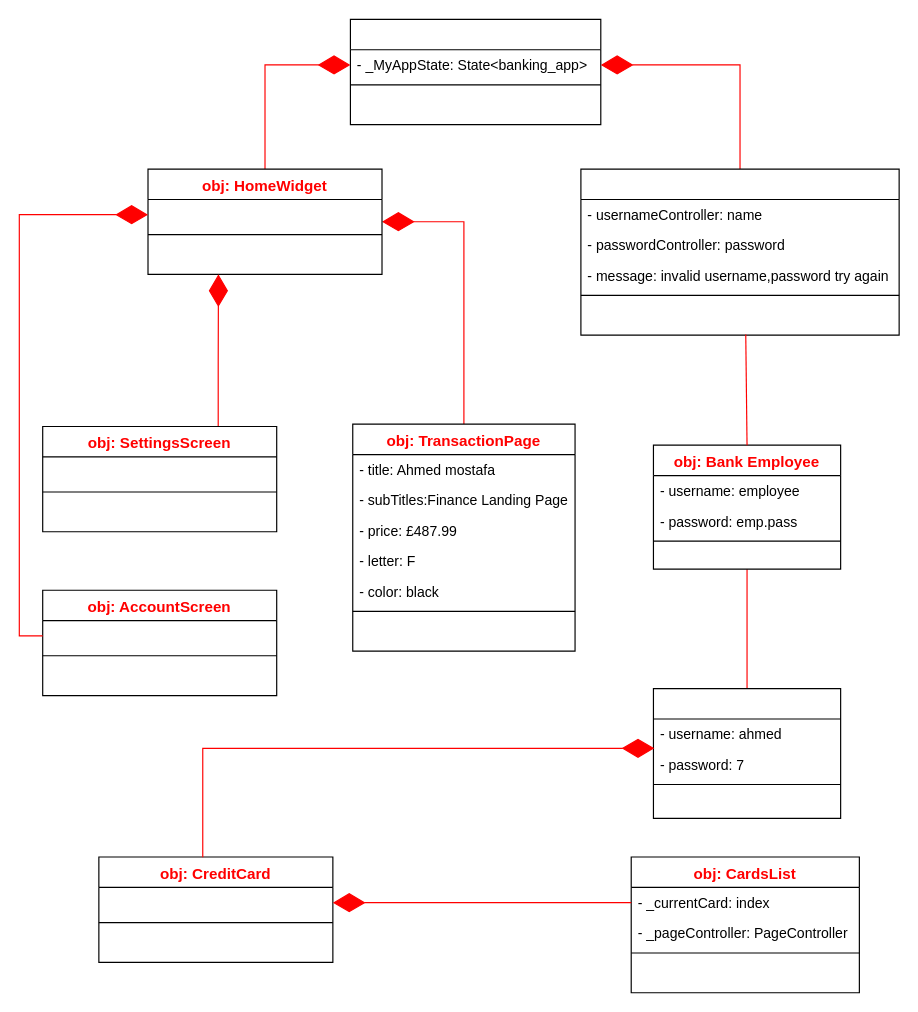
This 918x1012 diagram has some shape labels left out. Here are the shapes that lost their labels. From the top down, the box of each, then its label:
(349, 18, 601, 125): obj: MyApp
(580, 168, 899, 335): obj: LoginPage
(652, 687, 841, 818): obj: User
